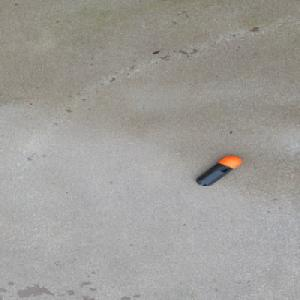PlasticPart: (194, 155, 243, 186)
